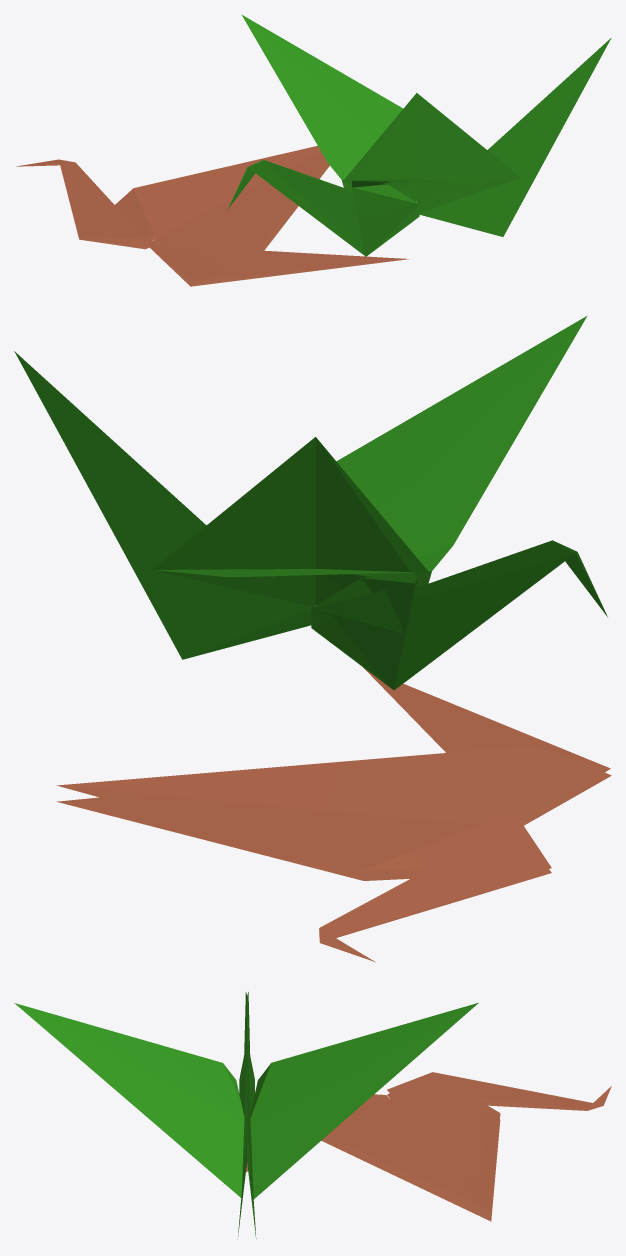
File: Animal papers.FBX
3 views of the same model, one above another, from view 1: azimuth 30°, elevation 25°; view 2: azimuth 150°, elevation 25°; view 3: azimuth 270°, elevation 25° (orthographic). The views are drawn at different scales.
Parts seen in each view (by area): view 1: Animal paper1, Animal paper2; view 2: Animal paper1, Animal paper2; view 3: Animal paper1, Animal paper2.
Part boxes in pixels (bbox=[...]): Animal paper1: bbox=[228, 14, 611, 256]; Animal paper2: bbox=[16, 145, 408, 286]; Animal paper1: bbox=[14, 315, 607, 690]; Animal paper2: bbox=[56, 667, 611, 962]; Animal paper1: bbox=[14, 992, 478, 1239]; Animal paper2: bbox=[223, 1072, 611, 1221].
Size of the model in its own units: 87.8 by 32.24 by 103.
